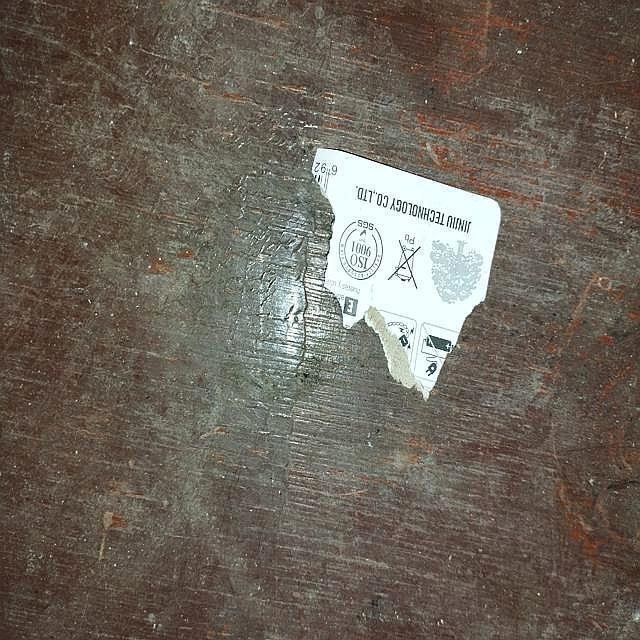Biodegradable: (261, 143, 508, 420)
